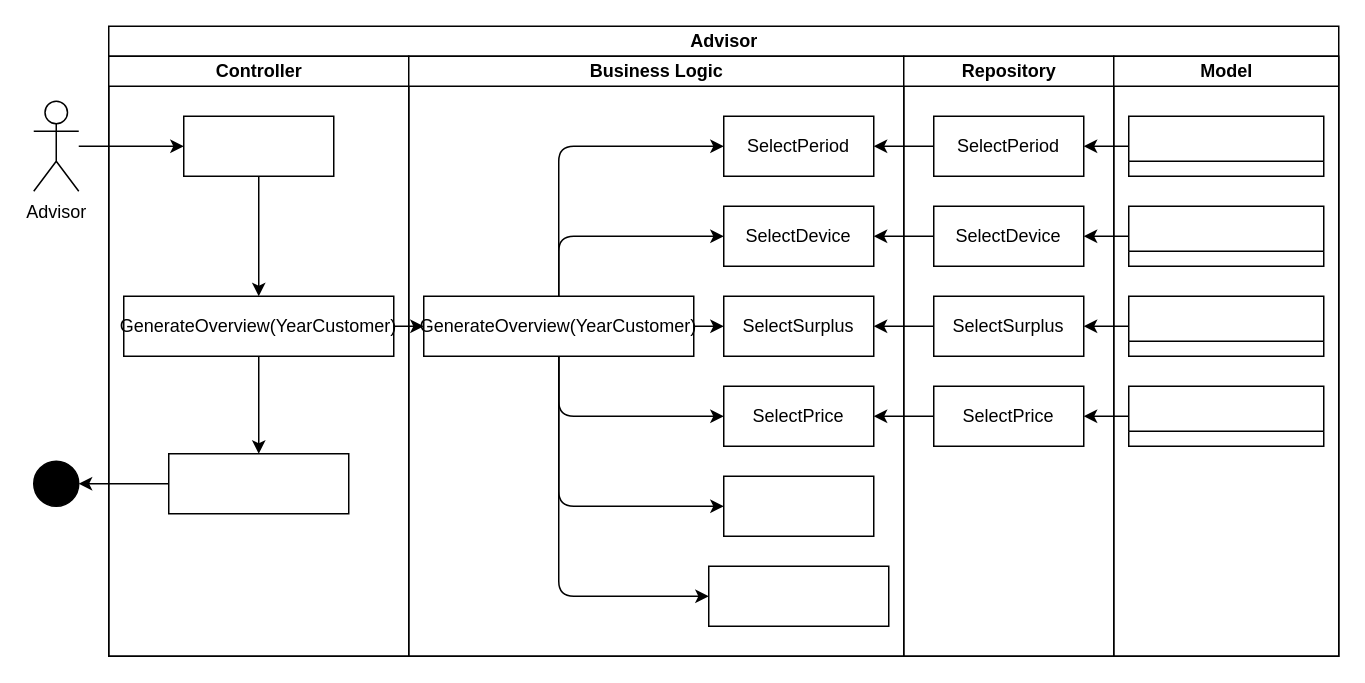
Image size: 1365x683. Some labels were removed from this diagram. Here are the shapes that lost their labels. From the top down, the centre of each, then its label:
[258,145]: Initialize
[1225,145]: Period
[1225,235]: Device
[1225,325]: Surplus
[1225,415]: Price
[258,483]: ExportSpreadsheet
[798,505]: CalculateRevenue
[798,595]: GenerateSpreadsheet
